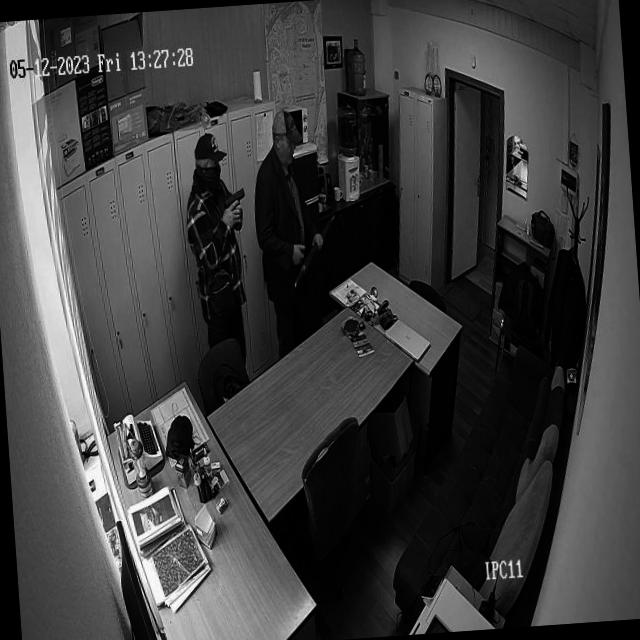gun: (288, 208, 348, 290), (220, 184, 248, 225)
person with a gun: (247, 103, 346, 320), (178, 125, 255, 338)
